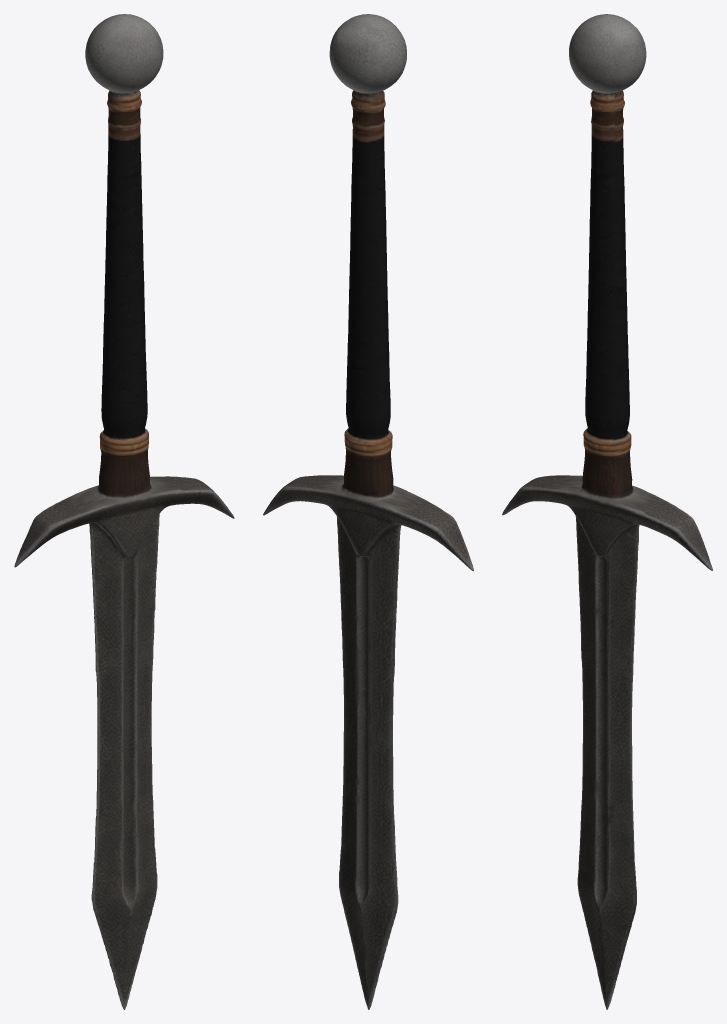
The model's file is sword.glb.
3 views of the same model, side by side, from view 1: azimuth 30°, elevation 25°; view 2: azimuth 150°, elevation 25°; view 3: azimuth 330°, elevation 25° (orthographic).
Bounding box in the file's own units: 0.4304 × 1.9 × 0.1291.
1 material, 1 textured.
